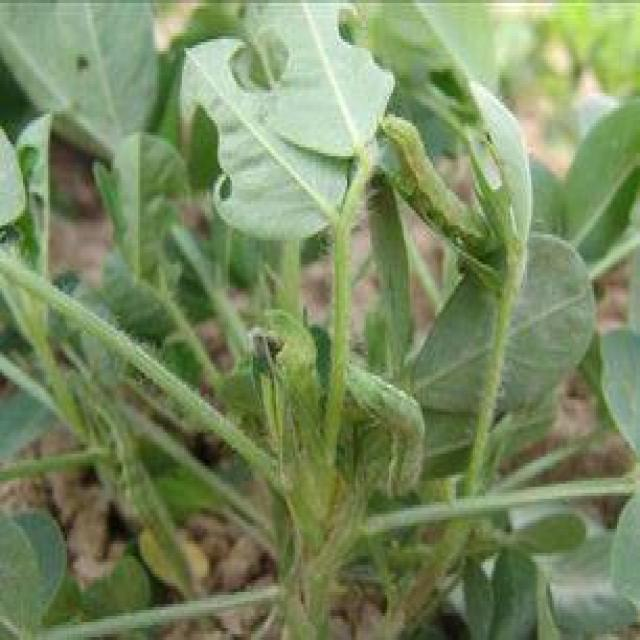BeetArmyWorm-Larva-: (379, 105, 495, 245)
